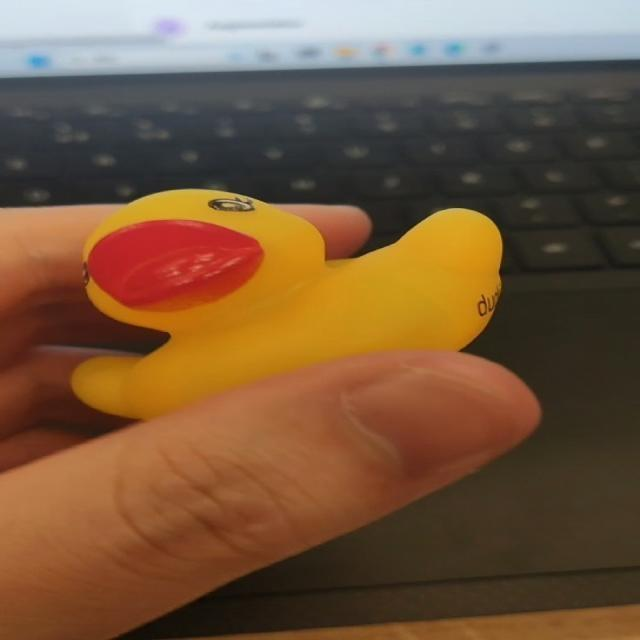rubber-duck: (71, 188, 500, 417)
